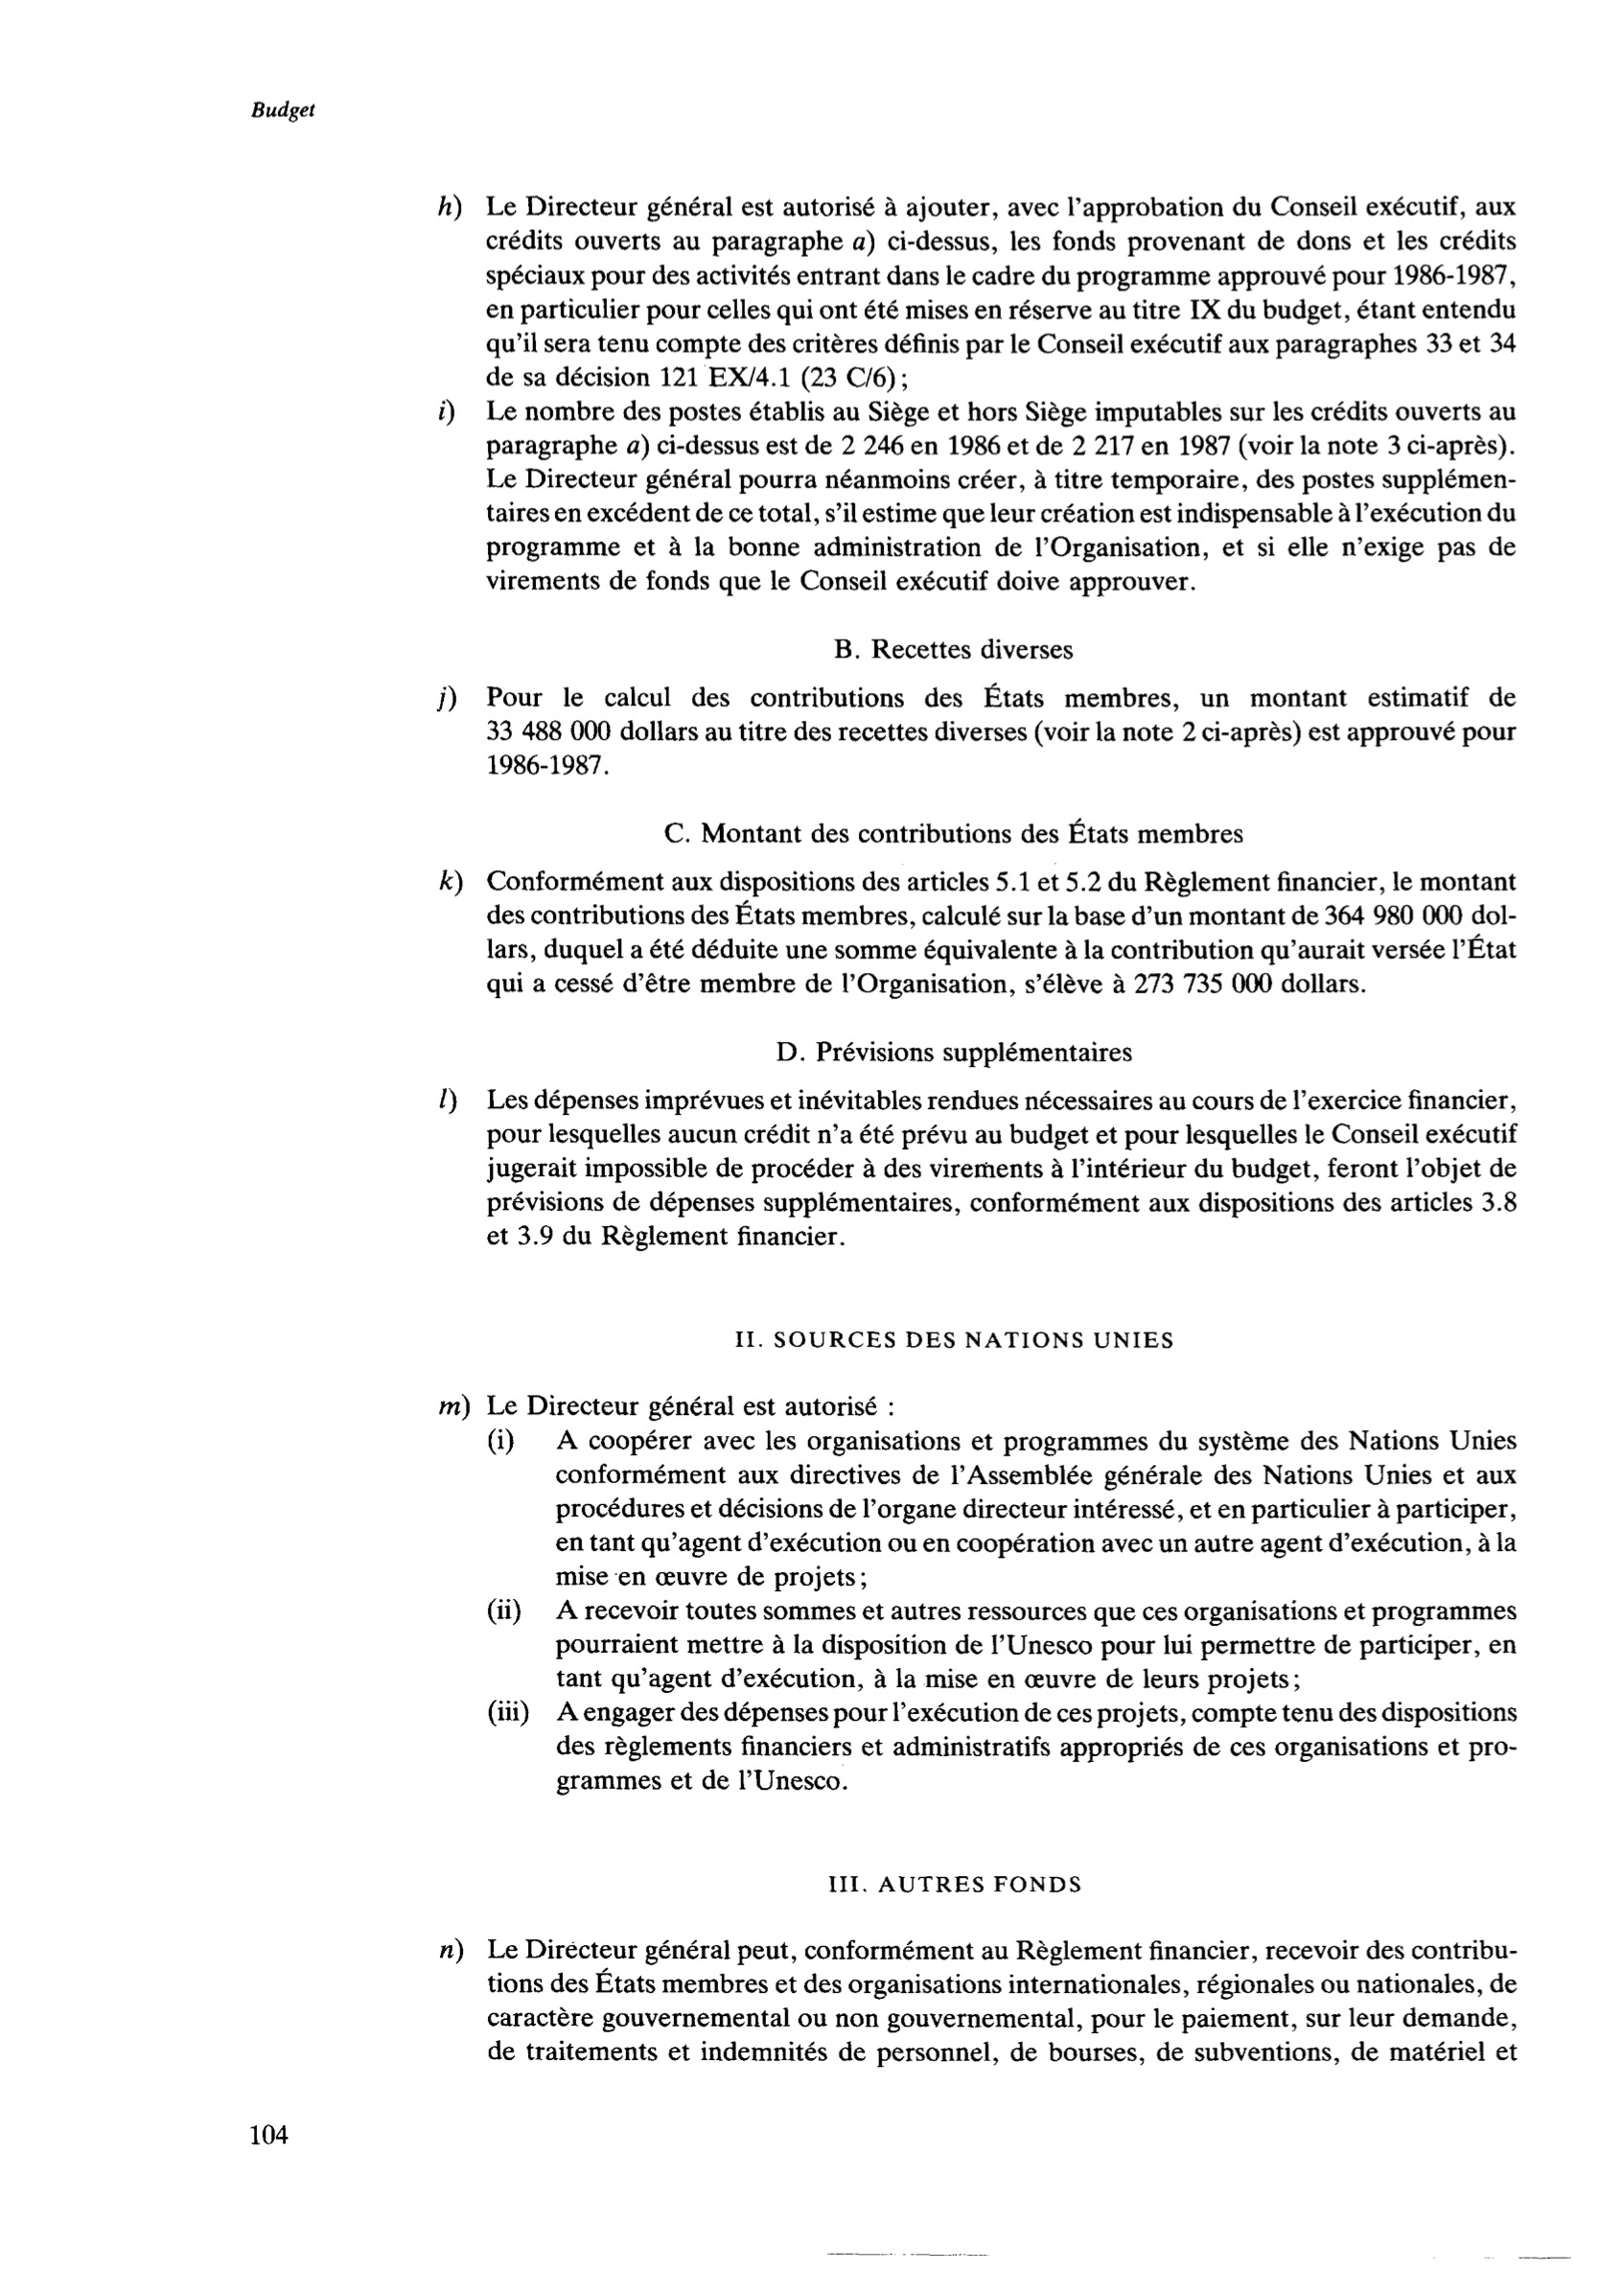GraphicZone-Head: (240, 90, 326, 132)
MainZone-Head: (648, 808, 1259, 855), (723, 1317, 1182, 1363), (764, 1030, 1141, 1075), (819, 624, 1085, 672), (816, 1861, 1090, 1907)
MainZone-ListItem: (415, 182, 1525, 394), (419, 395, 1525, 604), (427, 1385, 1522, 1592), (417, 1078, 1525, 1262), (421, 1926, 1529, 2088), (424, 859, 1526, 1008), (421, 675, 1512, 789), (466, 1695, 1526, 1804), (467, 1592, 1528, 1695)
TitlePageZone: (238, 2110, 301, 2162)
